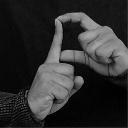hand: (26, 19, 84, 121), (54, 11, 127, 77)
